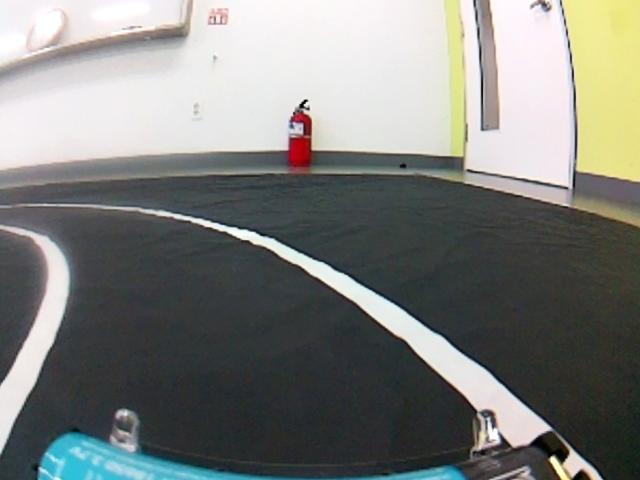straight: (0, 237, 625, 479)
